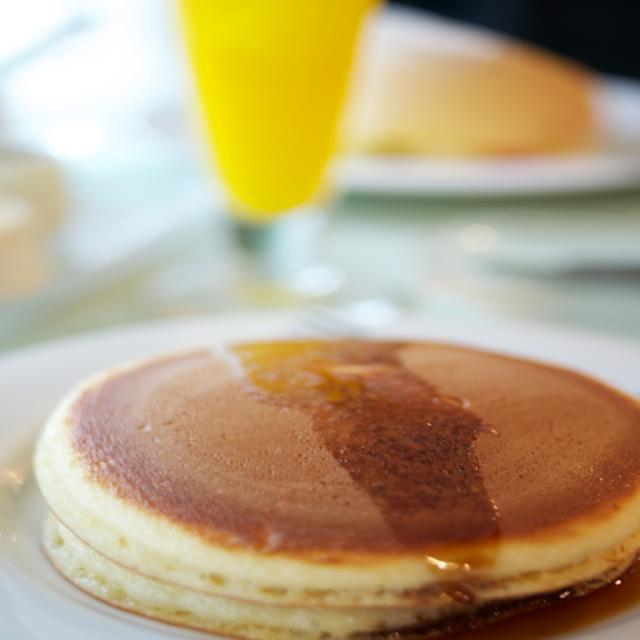Pancake: (34, 338, 640, 606)
